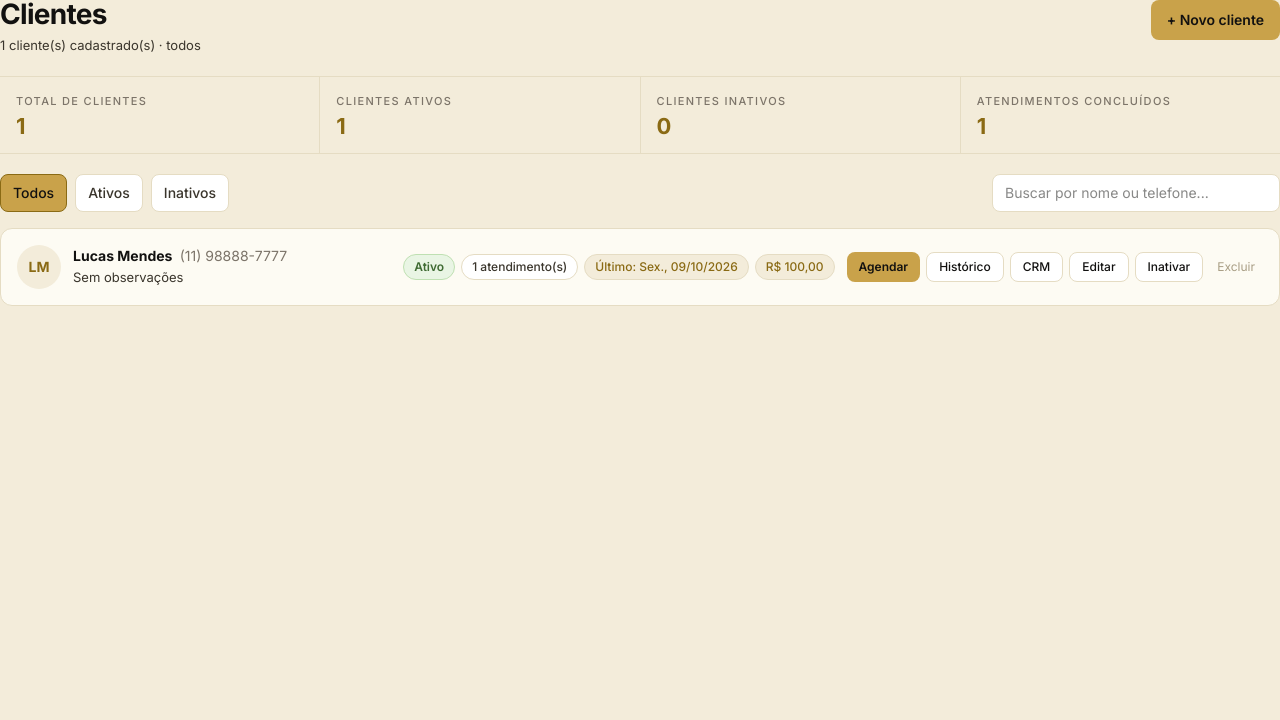
Test: Clientes — página (filtros, status e ações) › perfil do cliente mostra status, último atendimento e total gasto
The image size is (1280, 720).
Click the button "Histórico" at (965, 267), box x1=926 y1=252 x2=1004 y2=282
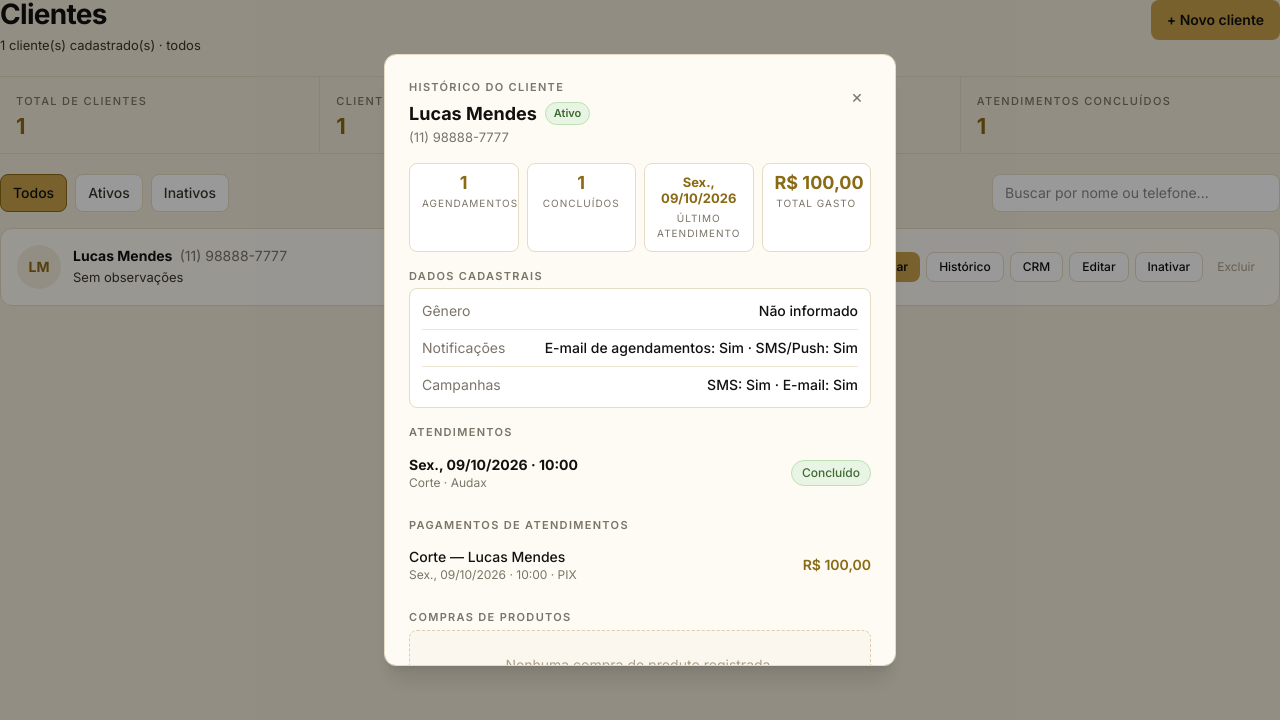
Now the text "Ativo" is shown, box x1=545 y1=102 x2=590 y2=125
